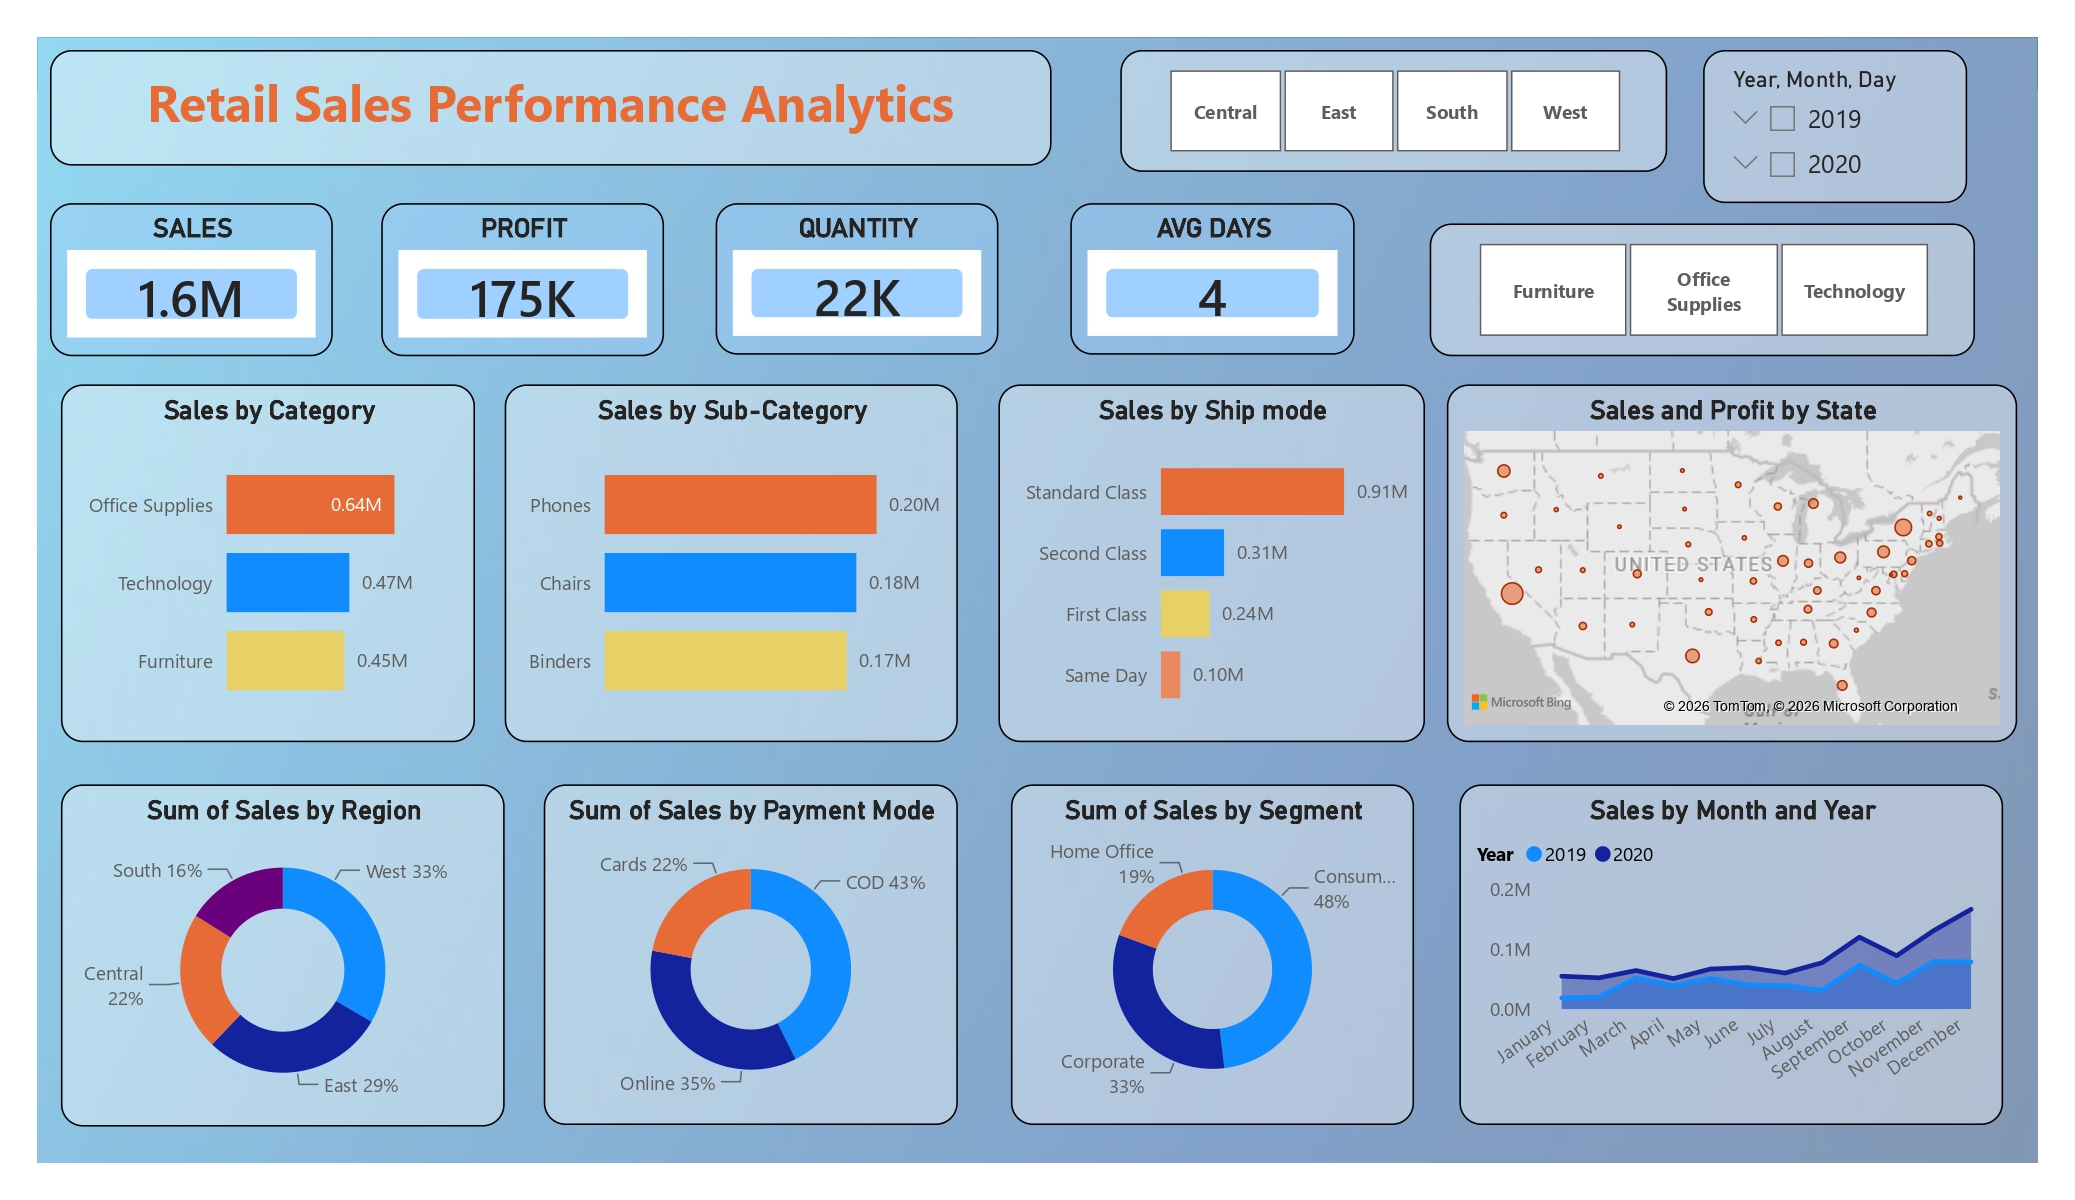

The page's visual inventory and layout, read from the dashboard file:
{"tool":"powerbi","page":{"name":"Page 1","canvas":[1280,720],"ordinal":0},"visuals":[{"type":"clusteredBarChart","title":"Sales by Category","fields":{"Category":["SuperStore_Sales_Dataset.Category"],"Y":["Sum(SuperStore_Sales_Dataset.Sales)"]},"box":[15.1,222.3,264.8,229.2],"z":0},{"type":"clusteredBarChart","title":"Sales by Sub-Category","fields":{"Category":["SuperStore_Sales_Dataset.Sub-Category"],"Y":["Sum(SuperStore_Sales_Dataset.Sales)"]},"box":[299.1,222.3,289.5,229.2],"z":1000},{"type":"clusteredBarChart","title":"Sales by Ship mode","fields":{"Category":["SuperStore_Sales_Dataset.Ship Mode"],"Y":["Sum(SuperStore_Sales_Dataset.Sales)"]},"box":[614.8,222.3,273.1,229.2],"z":2000},{"type":"areaChart","title":"Sales by Month and Year","fields":{"Y":["Sum(SuperStore_Sales_Dataset.Sales)"],"Category":["SuperStore_Sales_Dataset.Order Date.Variation.Date Hierarchy.Month","SuperStore_Sales_Dataset.Order Date.Variation.Date Hierarchy.Day"],"Series":["SuperStore_Sales_Dataset.Order Date.Variation.Date Hierarchy.Year"]},"box":[909.8,477.5,348.5,218.2],"z":3000},{"type":"slicer","title":"Profit by Month and Year","fields":{"Values":["SuperStore_Sales_Dataset.Region"]},"box":[693,8.2,349.9,78.2],"z":4000},{"type":"map","title":" Sales and Profit by State","fields":{"Category":["SuperStore_Sales_Dataset.State"],"Size":["Sum(SuperStore_Sales_Dataset.Sales)"]},"box":[901.5,222.3,365,229.2],"z":5000},{"type":"donutChart","fields":{"Category":["SuperStore_Sales_Dataset.Segment"],"Y":["Sum(SuperStore_Sales_Dataset.Sales)"]},"box":[623,477.5,258,218.2],"z":5001},{"type":"donutChart","fields":{"Category":["SuperStore_Sales_Dataset.Payment Mode"],"Y":["Sum(SuperStore_Sales_Dataset.Sales)"]},"box":[323.8,477.5,264.8,218.2],"z":5003},{"type":"donutChart","fields":{"Category":["SuperStore_Sales_Dataset.Region"],"Y":["Sum(SuperStore_Sales_Dataset.Sales)"]},"box":[15.1,477.5,284,219.6],"z":5004},{"type":"textbox","box":[8.2,8.2,640.8,74.1],"z":5005},{"type":"cardVisual","title":"SALES","fields":{"Data":["Sum(SuperStore_Sales_Dataset.Sales)"]},"box":[8.2,105.7,181.1,98.8],"z":5006},{"type":"cardVisual","title":"PROFIT","fields":{"Data":["Sum(SuperStore_Sales_Dataset.Profit)"]},"box":[219.6,105.7,181.1,98.8],"z":5007},{"type":"cardVisual","title":"QUANTITY","fields":{"Data":["Sum(SuperStore_Sales_Dataset.Quantity)"]},"box":[433.6,105.7,181.1,97.4],"z":5008},{"type":"slicer","fields":{"Values":["SuperStore_Sales_Dataset.Category"]},"box":[890.6,119.4,349.9,85.1],"z":5009},{"type":"slicer","fields":{"Values":["SuperStore_Sales_Dataset.Order Date.Variation.Date Hierarchy.Year","SuperStore_Sales_Dataset.Order Date.Variation.Date Hierarchy.Month","SuperStore_Sales_Dataset.Order Date.Variation.Date Hierarchy.Day"]},"box":[1066.2,8.2,168.8,97.4],"z":5010},{"type":"cardVisual","title":"AVG DAYS","fields":{"Data":["Avg(SuperStore_Sales_Dataset.Avg delivery)"]},"box":[661.4,105.7,181.1,97.4],"z":5011}]}

Visuals, with their boxes on the page's 1280x720 design canvas (x1, y1, x2, y2). These are canvas units, not pixel positions in the 2075x1200 screenshot, which may show the page scaled, cropped or inside an application window:
"Sales by Category" clusteredBarChart: (left=15, top=222, right=280, bottom=452)
"Sales by Sub-Category" clusteredBarChart: (left=299, top=222, right=589, bottom=452)
"Sales by Ship mode" clusteredBarChart: (left=615, top=222, right=888, bottom=452)
"Sales by Month and Year" areaChart: (left=910, top=478, right=1258, bottom=696)
"Profit by Month and Year" slicer: (left=693, top=8, right=1043, bottom=86)
" Sales and Profit by State" map: (left=902, top=222, right=1266, bottom=452)
donutChart - SuperStore_Sales_Dataset.Segment x Sum(SuperStore_Sales_Dataset.Sales): (left=623, top=478, right=881, bottom=696)
donutChart - SuperStore_Sales_Dataset.Payment Mode x Sum(SuperStore_Sales_Dataset.Sales): (left=324, top=478, right=589, bottom=696)
donutChart - SuperStore_Sales_Dataset.Region x Sum(SuperStore_Sales_Dataset.Sales): (left=15, top=478, right=299, bottom=697)
textbox: (left=8, top=8, right=649, bottom=82)
"SALES" cardVisual: (left=8, top=106, right=189, bottom=204)
"PROFIT" cardVisual: (left=220, top=106, right=401, bottom=204)
"QUANTITY" cardVisual: (left=434, top=106, right=615, bottom=203)
slicer - SuperStore_Sales_Dataset.Category: (left=891, top=119, right=1240, bottom=204)
slicer - SuperStore_Sales_Dataset.Order Date.Variation.Date Hierarchy.Year x SuperStore_Sales_Dataset.Order Date.Variation.Date Hierarchy.Month: (left=1066, top=8, right=1235, bottom=106)
"AVG DAYS" cardVisual: (left=661, top=106, right=842, bottom=203)
